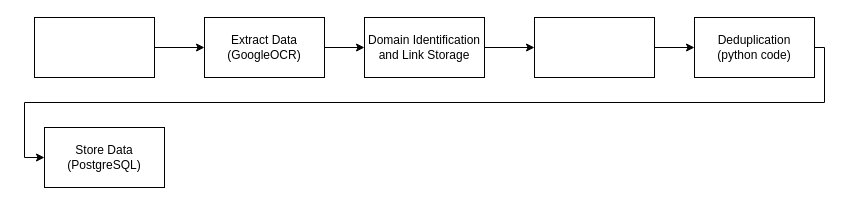
This 850x205 diagram has some shape labels left out. Here are the shapes that lost their labels. From the top down, the centre of each, then its label:
point (94, 47): Data Collection (Beautiful Soup)
point (594, 47): Get More Company Information (PeopleDataLabs)
